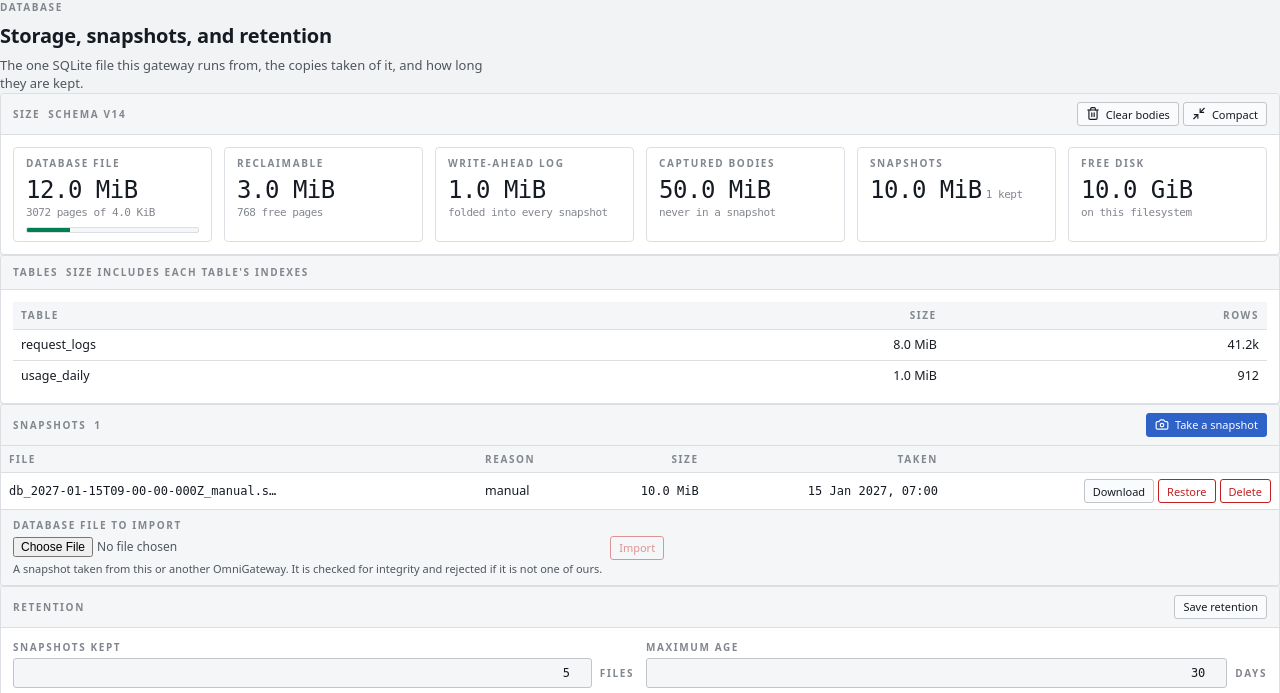
DatabaseBoard › compacting asks first and then says what it gave back
Click the button "Compact".
click(1225, 114)  # box [1183,102,1267,126]
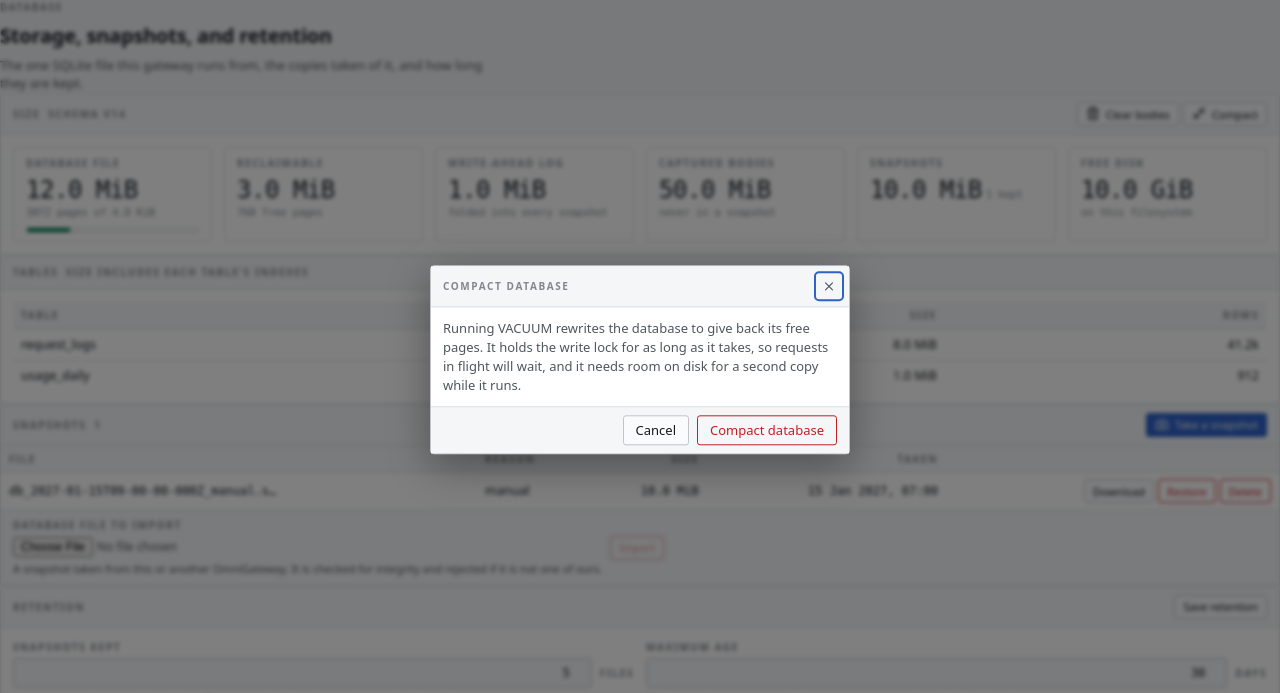
Click the button "Compact database".
click(767, 431)  # box [697,416,837,446]
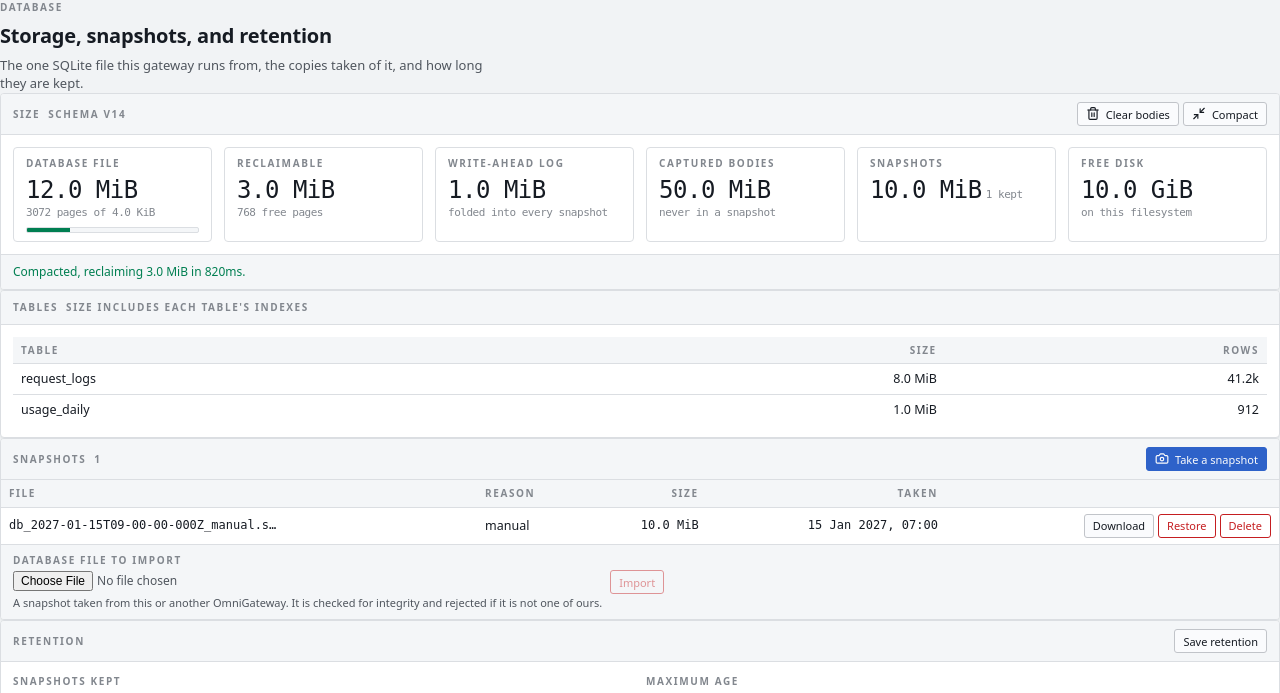
Now the message shows "3.0 MiB", box [13,263,246,280]
